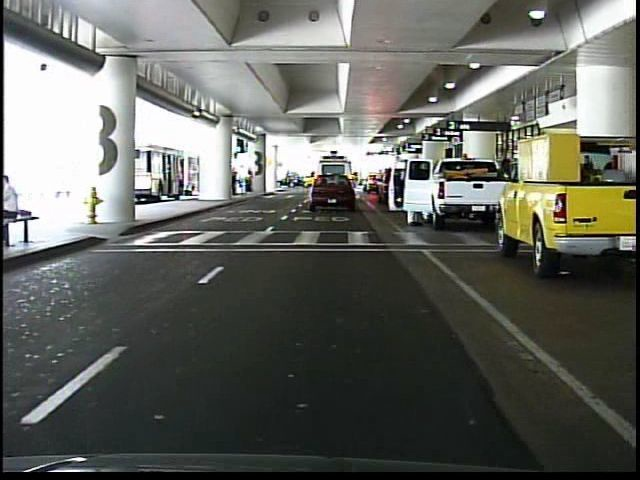person: (230, 163, 242, 198), (245, 166, 257, 194)
